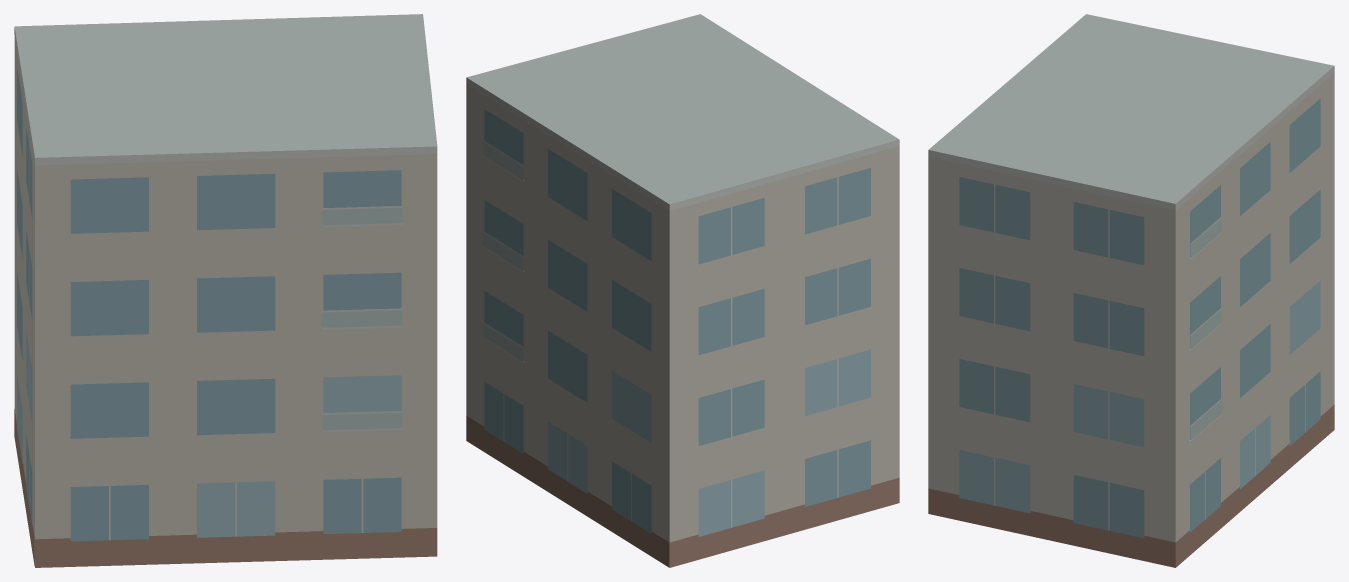
Rendered from survey-upis-33008173.glb.
The picture shows the model from 3 angles, left to right: view 1: azimuth 30°, elevation 25°; view 2: azimuth 150°, elevation 25°; view 3: azimuth 270°, elevation 25°; orthographic projection. The views are drawn at different scales.
Parts seen in each view (by area): view 1: survey-upis-33008173.tmp; view 2: survey-upis-33008173.tmp; view 3: survey-upis-33008173.tmp.
Part boxes in pixels (box(x1,y1,x2,y2)): survey-upis-33008173.tmp: box(14, 14, 437, 567); survey-upis-33008173.tmp: box(466, 14, 899, 567); survey-upis-33008173.tmp: box(928, 14, 1334, 567).
Bounding box in the file's own units: 14.99 × 13.39 × 13.55.
